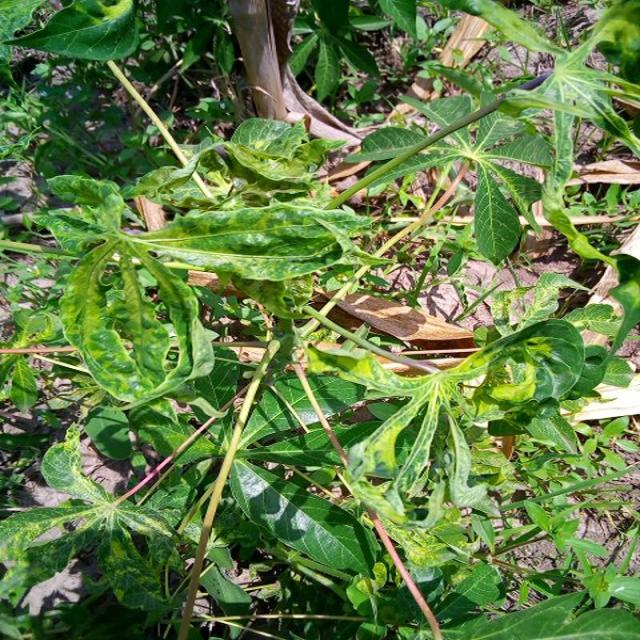cassava leaf: (228, 456, 377, 582)
